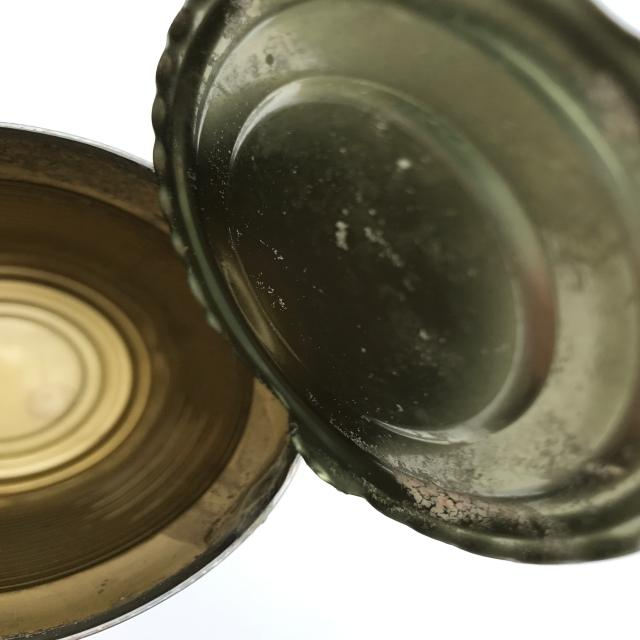metal: (149, 0, 640, 565), (0, 119, 301, 639)
